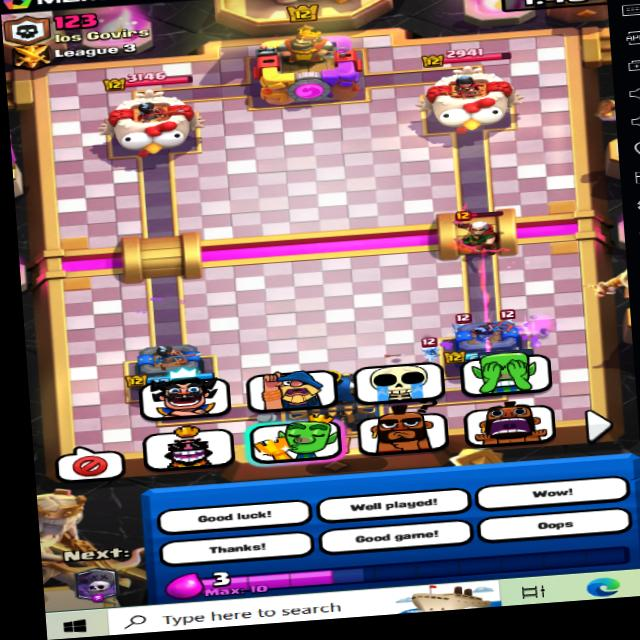magic-archer: (443, 206, 520, 256)
